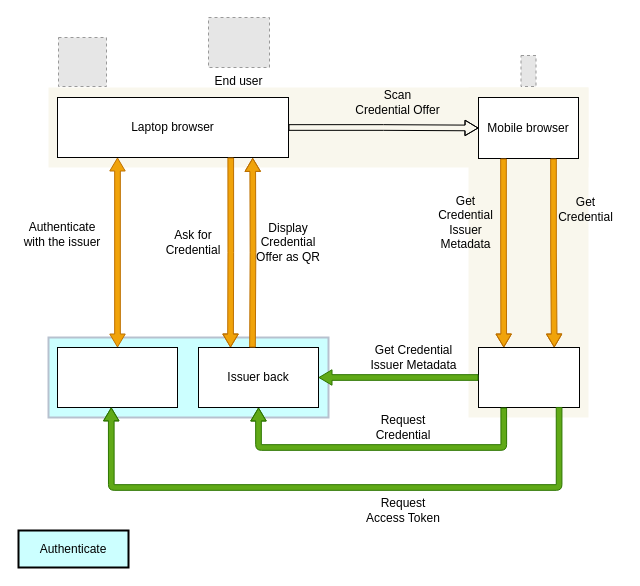
This 640x586 diagram has some shape labels left out. Grey dashed boxes stand in for pictures. The shapes that lost their labels are listed below. From the top down, each one's centre as x and y in pixels, then its label:
(x=117, y=377): Authorisation server
(x=529, y=377): Wallet back
